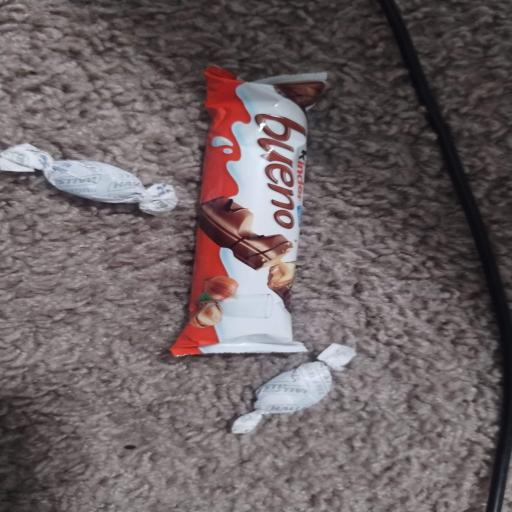chocolate: (172, 67, 326, 355), (0, 144, 177, 214), (232, 344, 355, 433)
